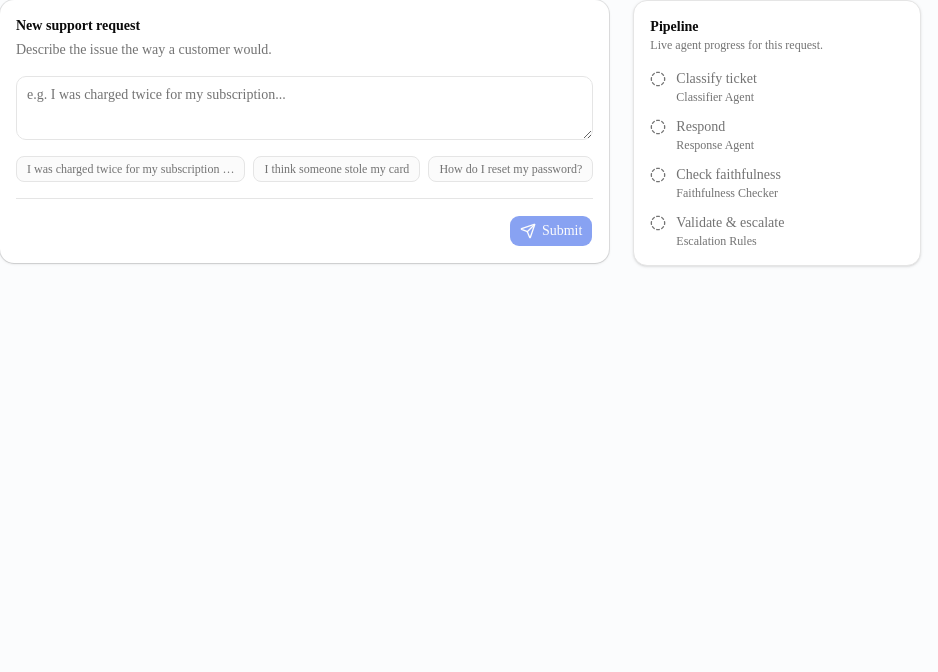
Test: TicketForm › shows escalation status and reasons when the ticket was escalated
Type "someone stole my card" into the text box named "Describe your issue" at (305, 108), box [16,76,593,140]
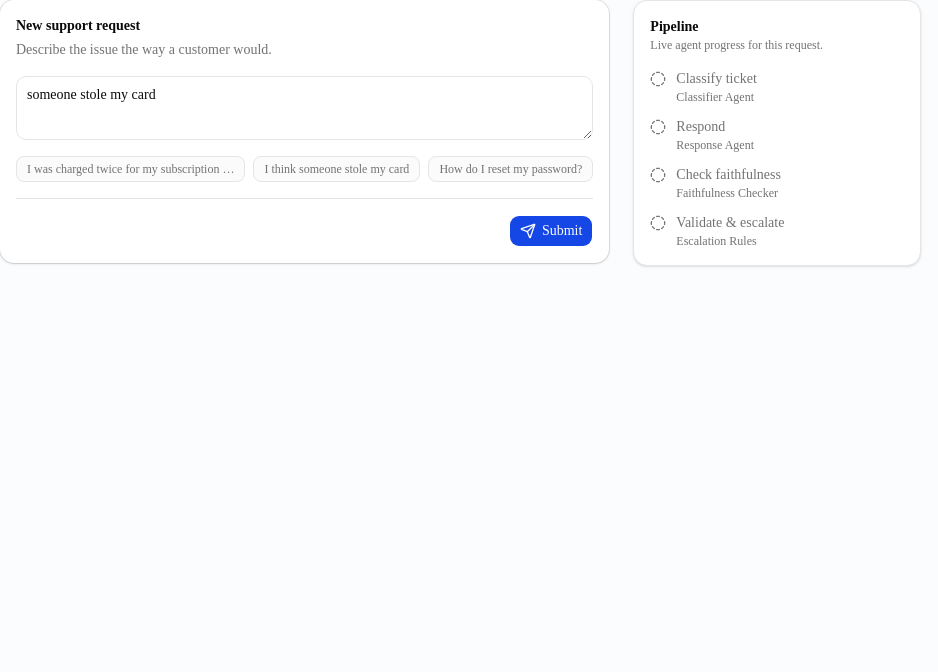
Click the button "Submit" at (551, 231), box [509,215,593,247]
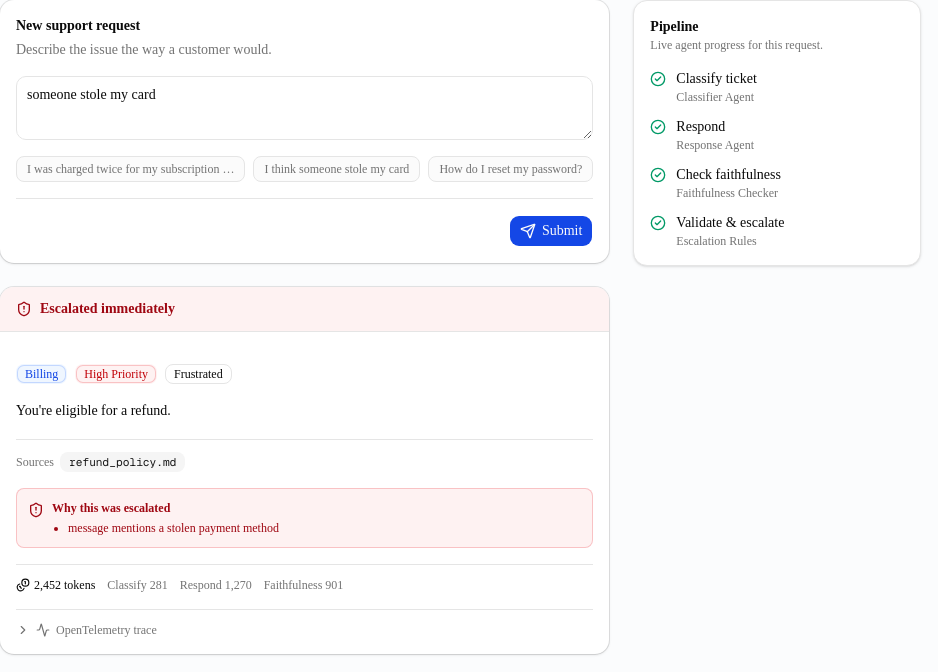
expect the text "Escalated immediately" is shown: met, box [40,299,175,319]
expect the list item "message mentions a stolen payment method" is shown: met, box [68,520,279,536]
